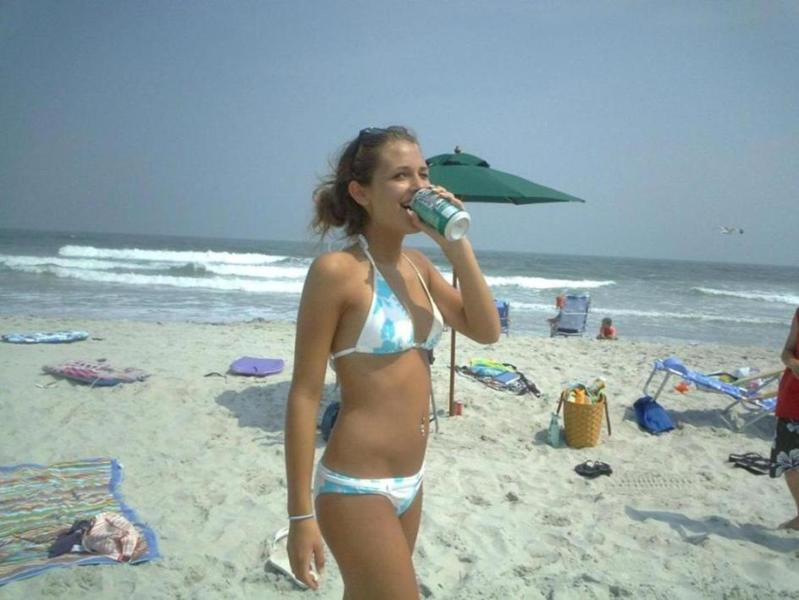person: (285, 124, 502, 600)
